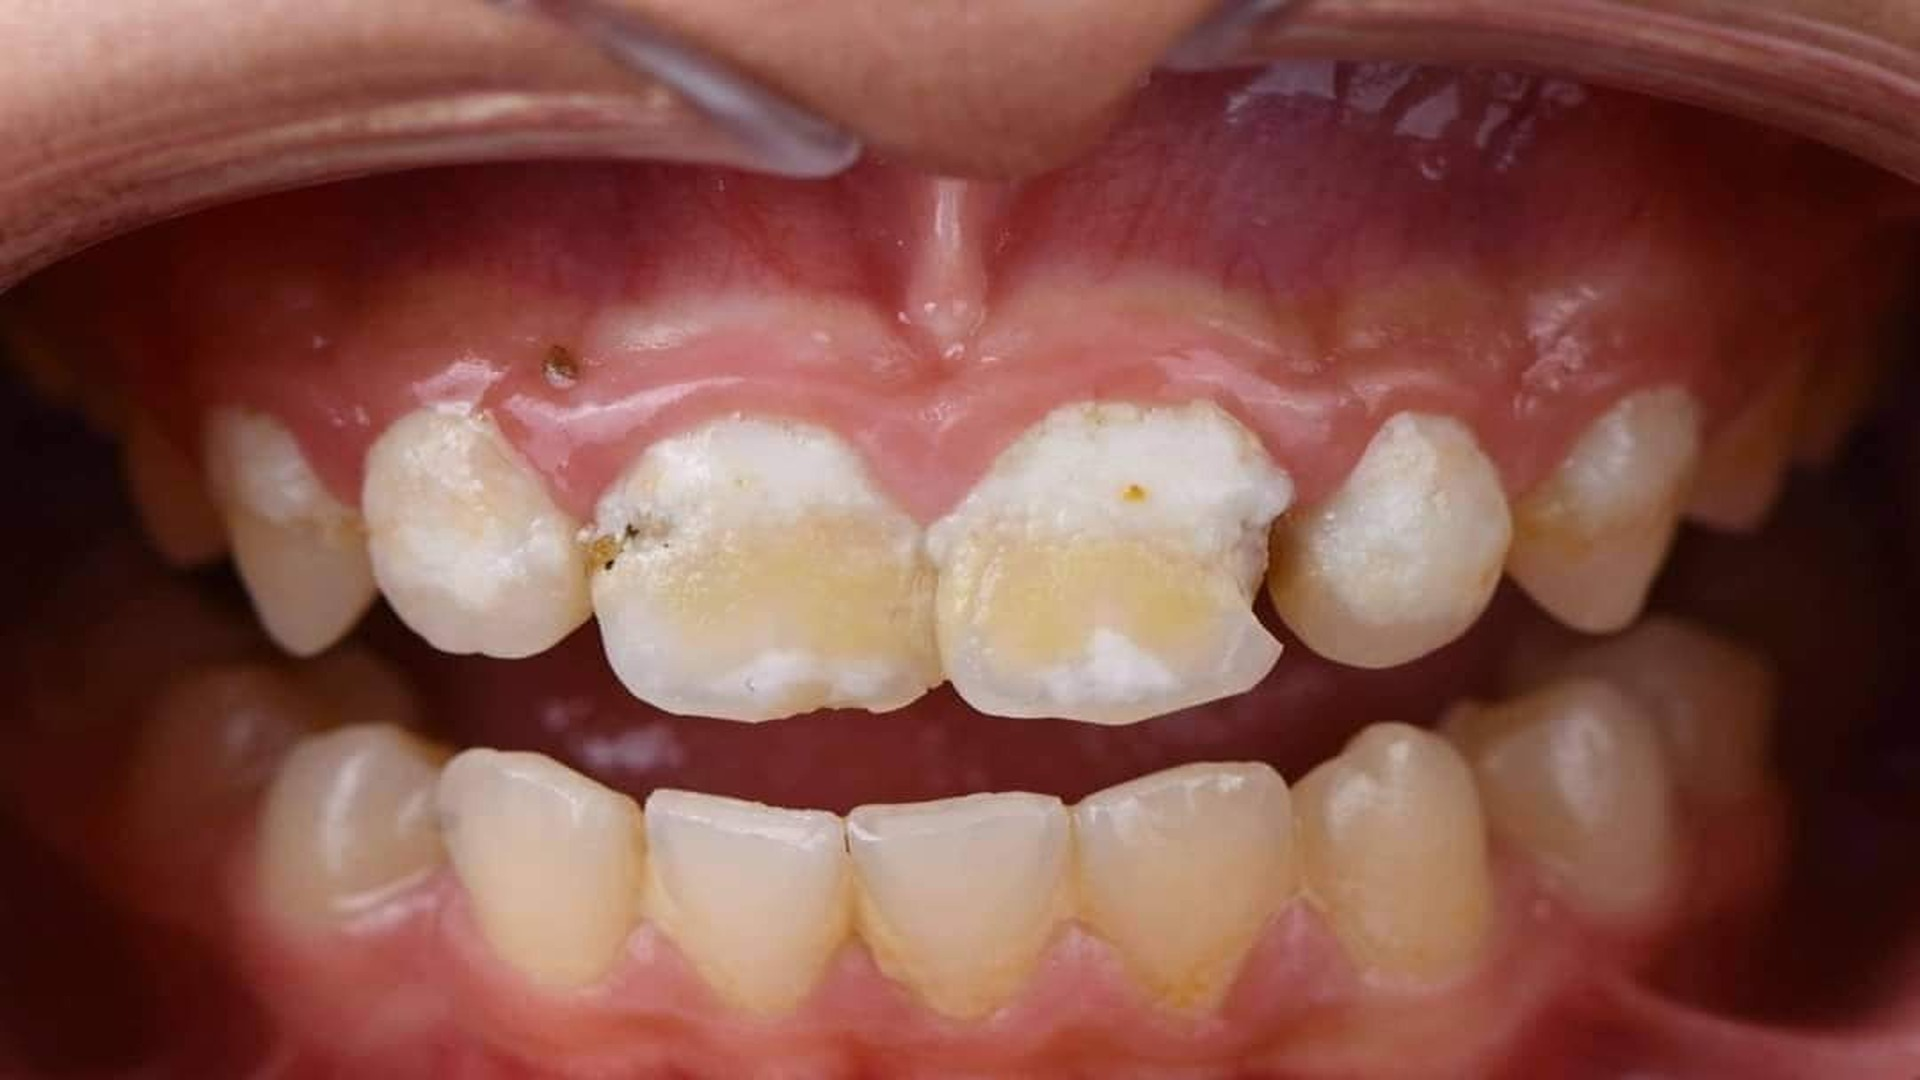tooth: (924, 400, 1295, 727), (578, 414, 943, 724), (1437, 680, 1692, 928), (1267, 411, 1513, 669), (361, 404, 593, 661), (1073, 762, 1295, 1019), (1292, 723, 1494, 996), (843, 793, 1075, 1019), (436, 748, 650, 993), (644, 789, 855, 1019), (1510, 386, 1702, 634), (200, 406, 378, 658), (255, 721, 455, 924)
